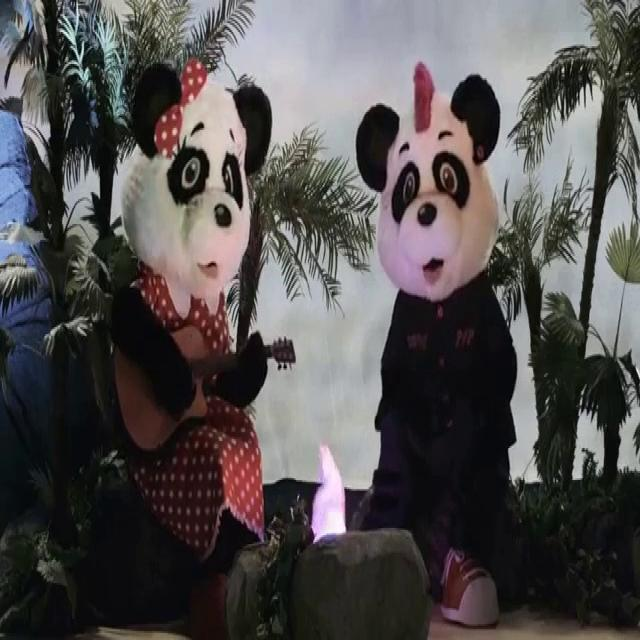Guitar: (111, 320, 299, 444)
